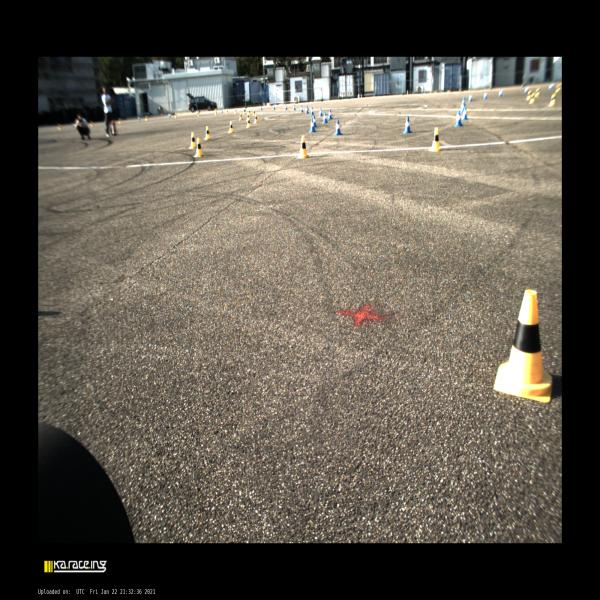blue_cone: (403, 116, 412, 133), (334, 120, 342, 136), (454, 110, 462, 126), (309, 118, 316, 132), (461, 107, 468, 120), (322, 112, 327, 123), (328, 109, 333, 119), (314, 115, 318, 127), (318, 107, 322, 117), (310, 107, 314, 115), (305, 106, 309, 113), (300, 105, 303, 112), (293, 104, 296, 110), (284, 104, 287, 110), (273, 104, 275, 109)
yellow_cone: (494, 291, 552, 403), (428, 127, 442, 152), (297, 136, 309, 158), (194, 138, 203, 157), (188, 132, 196, 149), (204, 126, 211, 140), (228, 121, 234, 133), (246, 118, 251, 128), (254, 114, 258, 124), (239, 112, 243, 120)
